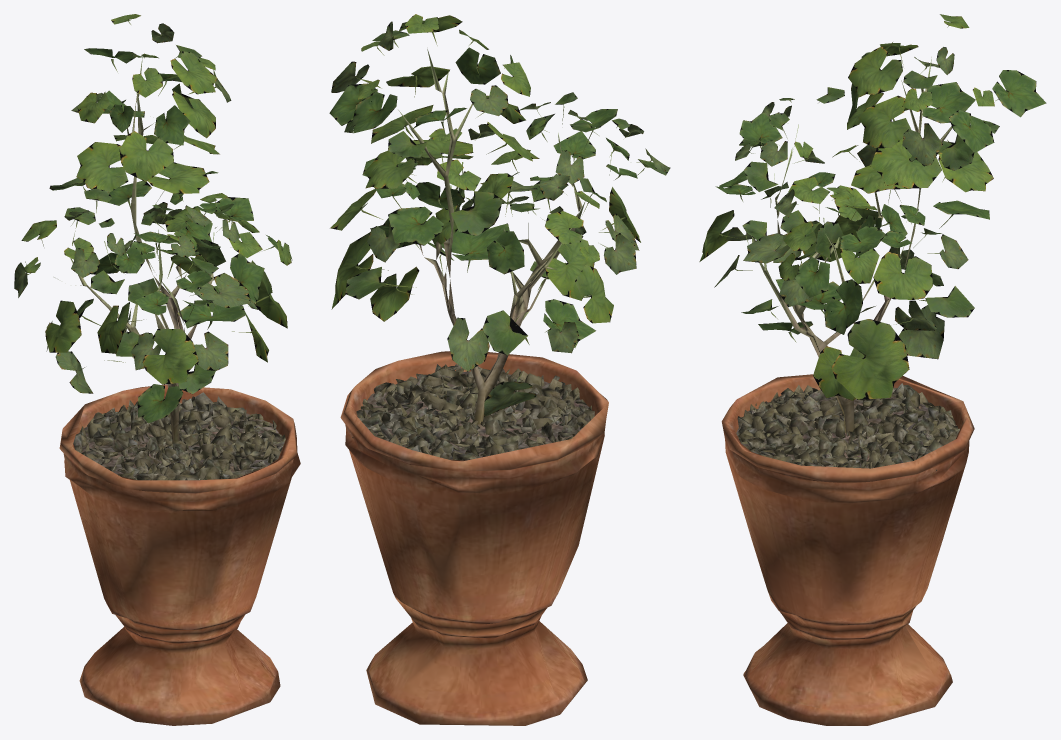
The model's file is potted_plant_01.glb.
3 views of the same model, side by side, from view 1: azimuth 30°, elevation 25°; view 2: azimuth 150°, elevation 25°; view 3: azimuth 270°, elevation 25° (orthographic). The views are drawn at different scales.
Parts seen in each view (by area): view 1: potted_plant_01_stem, potted_plant_01_leaves; view 2: potted_plant_01_stem, potted_plant_01_leaves; view 3: potted_plant_01_stem, potted_plant_01_leaves.
Boxes of the visible parts, left/top/right/bottom form: potted_plant_01_stem: left=54, top=57, right=300, bottom=725; potted_plant_01_leaves: left=14, top=14, right=292, bottom=423; potted_plant_01_stem: left=340, top=49, right=611, bottom=725; potted_plant_01_leaves: left=329, top=14, right=670, bottom=416; potted_plant_01_stem: left=721, top=57, right=974, bottom=725; potted_plant_01_leaves: left=699, top=14, right=1046, bottom=400.
Bounding box in the file's own units: 0.5866 × 1.33 × 0.6336.
2 materials, 2 textured.
